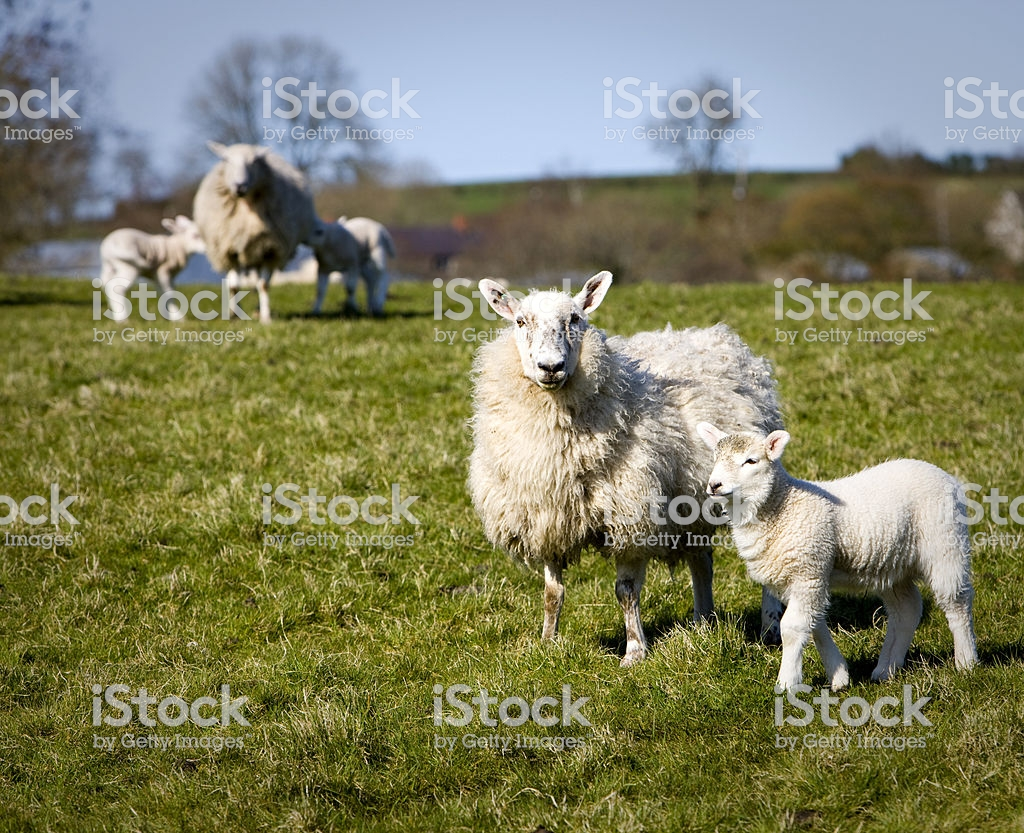sheep: (461, 269, 780, 669), (694, 420, 989, 691), (192, 134, 318, 327)
